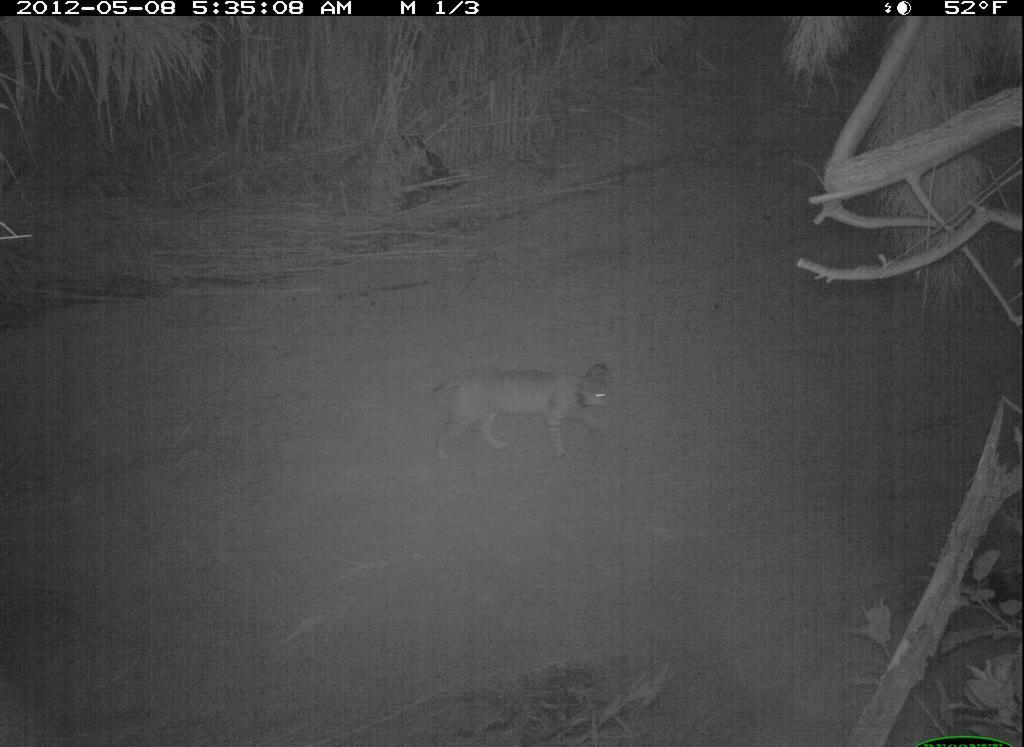bobcat: (420, 355, 628, 473)
